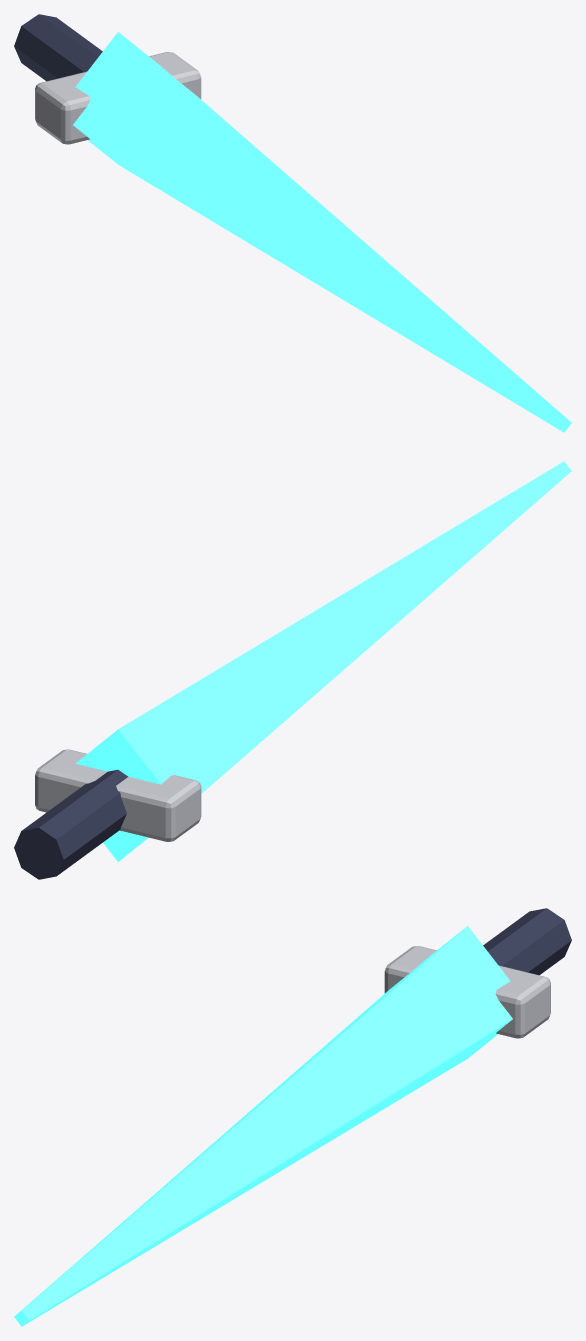
The model's file is SM_Leona_Sword.fbx.
The picture shows the model from 3 angles, top to bottom: view 1: azimuth 30°, elevation 25°; view 2: azimuth 150°, elevation 25°; view 3: azimuth 330°, elevation 25°; orthographic projection.
Parts seen in each view (by area): view 1: SM_Leona_Sword; view 2: SM_Leona_Sword; view 3: SM_Leona_Sword.
Boxes of the visible parts, x1=… form: SM_Leona_Sword: x1=14, y1=14, x2=571, y2=432; SM_Leona_Sword: x1=14, y1=461, x2=571, y2=879; SM_Leona_Sword: x1=14, y1=908, x2=571, y2=1326.
Size of the model in its own units: 16.28 by 106 by 14.8.
